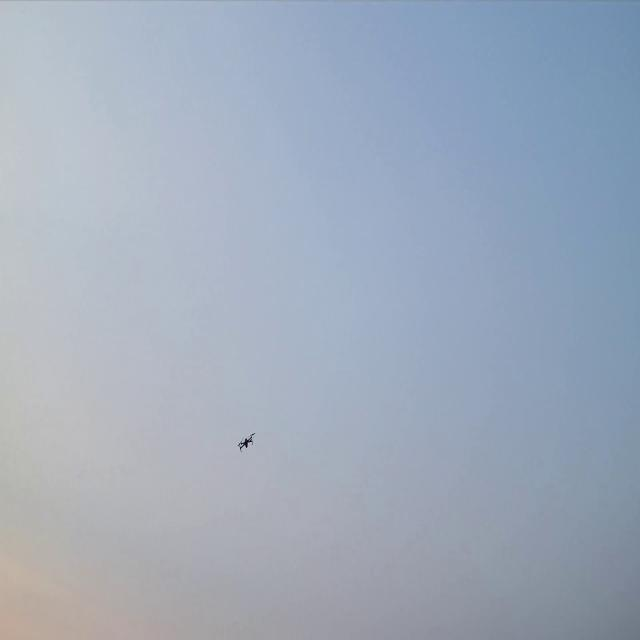UAV: (237, 430, 256, 454)
